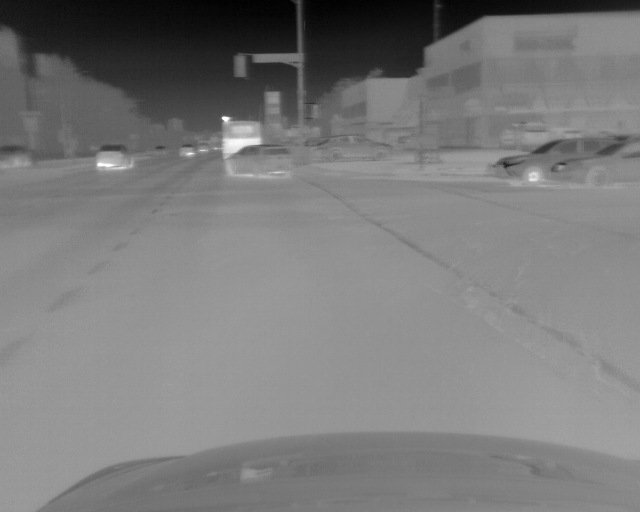car: (494, 134, 615, 187), (548, 137, 640, 189), (224, 144, 292, 180), (309, 134, 390, 163), (222, 120, 261, 163), (94, 144, 134, 169), (1, 145, 39, 171), (179, 142, 192, 158), (194, 142, 209, 155)
